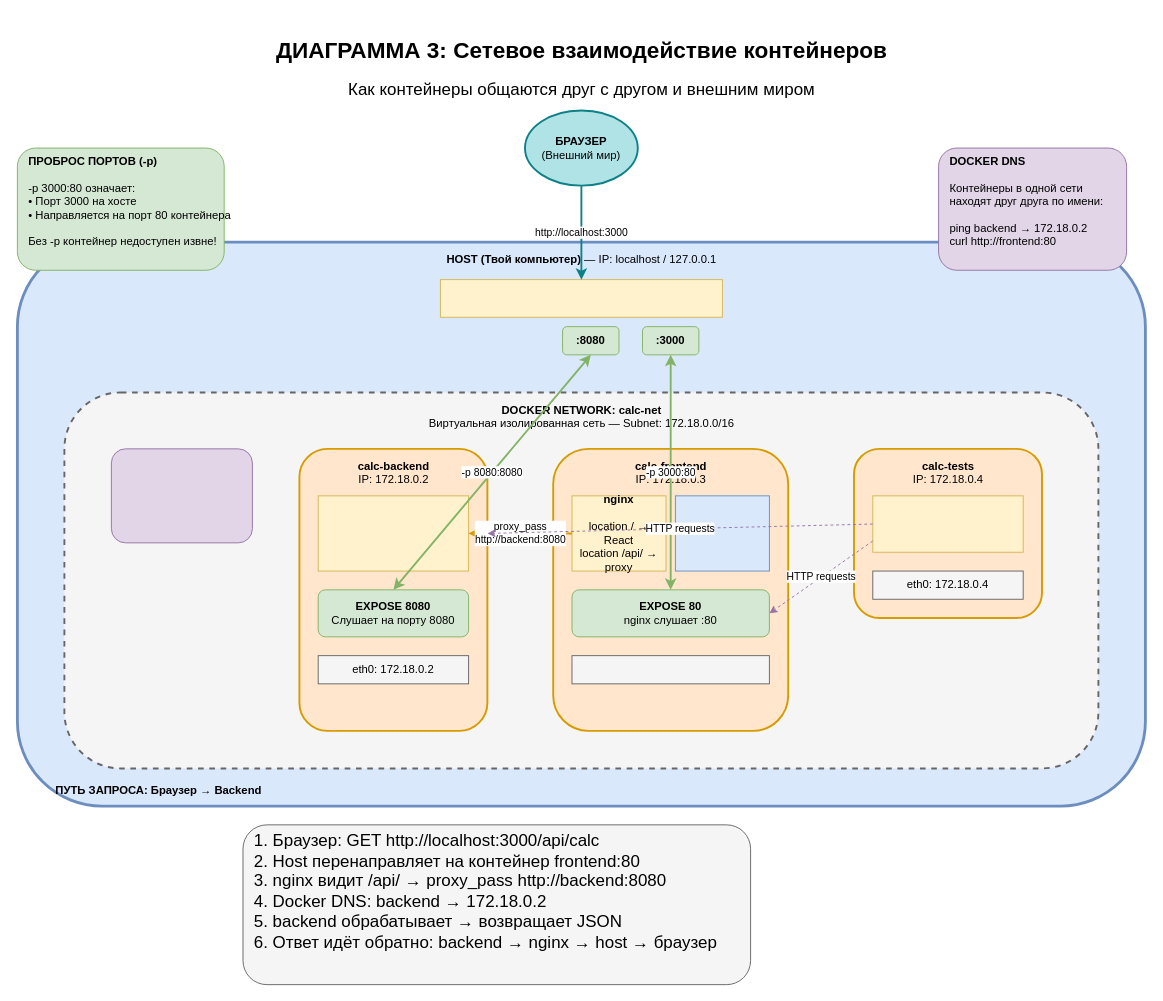
The diagram is 1163 pixels wide and 1001 high, and some of its shapes have lost their labels. Here are the shapes that lost their labels. From the top down, the centre of each, then its label:
At [580,298]: "ПОРТЫ ХОСТА (доступны из браузера)".
At [181,495]: "Docker DNS backend → 172.18.0.2 frontend → 172.18.0.3 tests → 172.18.0.4".
At [393,533]: "Spring Boot Java Application /api/health /api/calc".
At [721,533]: "React App (static files)".
At [947,523]: "pytest + requests + selenium".
At [670,669]: "eth0: 172.18.0.3".
